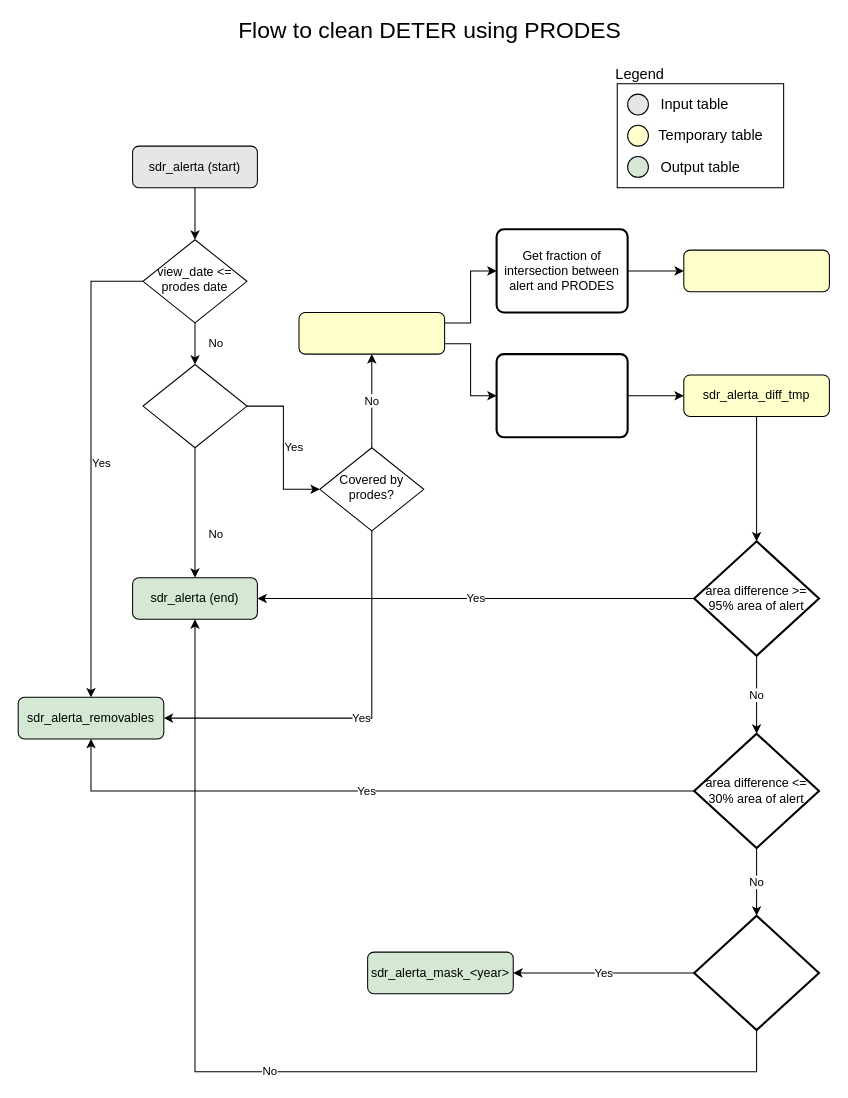
This 848x1098 diagram has some shape labels left out. The centre of each missing label's shape, as x and y in pixels:
"Get fraction of difference between alert and PRODES" belongs at point (561, 395).
"Intersects by prodes?" belongs at point (194, 405).
"Is it deforestation?" belongs at point (756, 972).
"sdr_alerta_inter_tmp" belongs at point (756, 270).
"sdr_alerta_tmp" belongs at point (371, 332).
